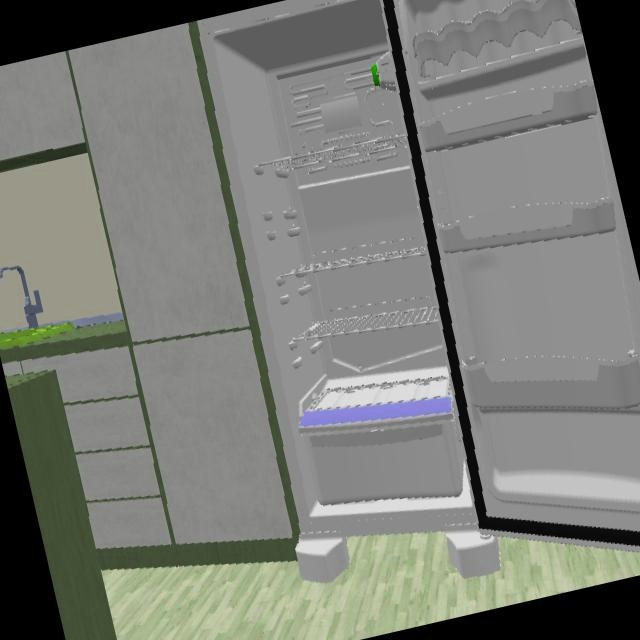cabinet: (0, 15, 301, 569)
countertop: (0, 313, 129, 365)
fridge: (197, 0, 640, 542)
sink: (0, 323, 72, 353)
